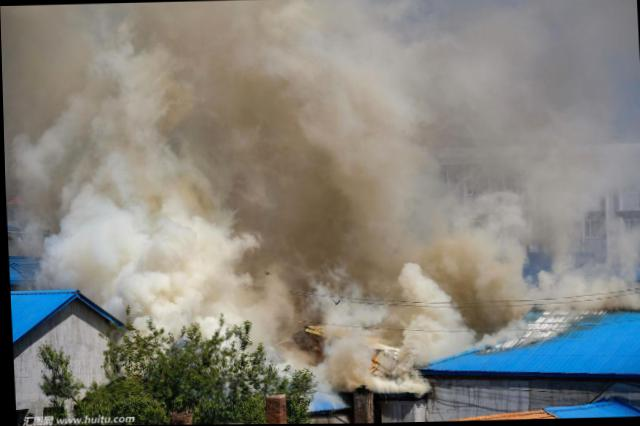smoke: (1, 5, 178, 285), (170, 0, 327, 301), (314, 0, 459, 297), (448, 0, 639, 199), (456, 196, 639, 290), (320, 295, 460, 334), (285, 329, 365, 376), (106, 283, 182, 327), (208, 300, 309, 330), (391, 332, 458, 363), (465, 297, 520, 326)
